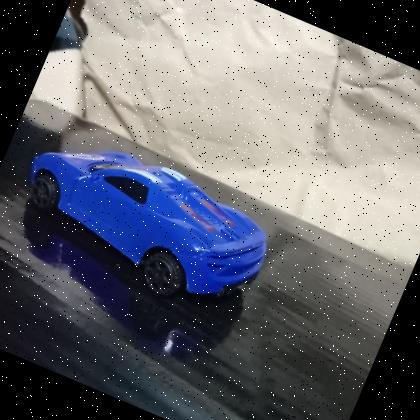Car: (0, 111, 291, 336)
